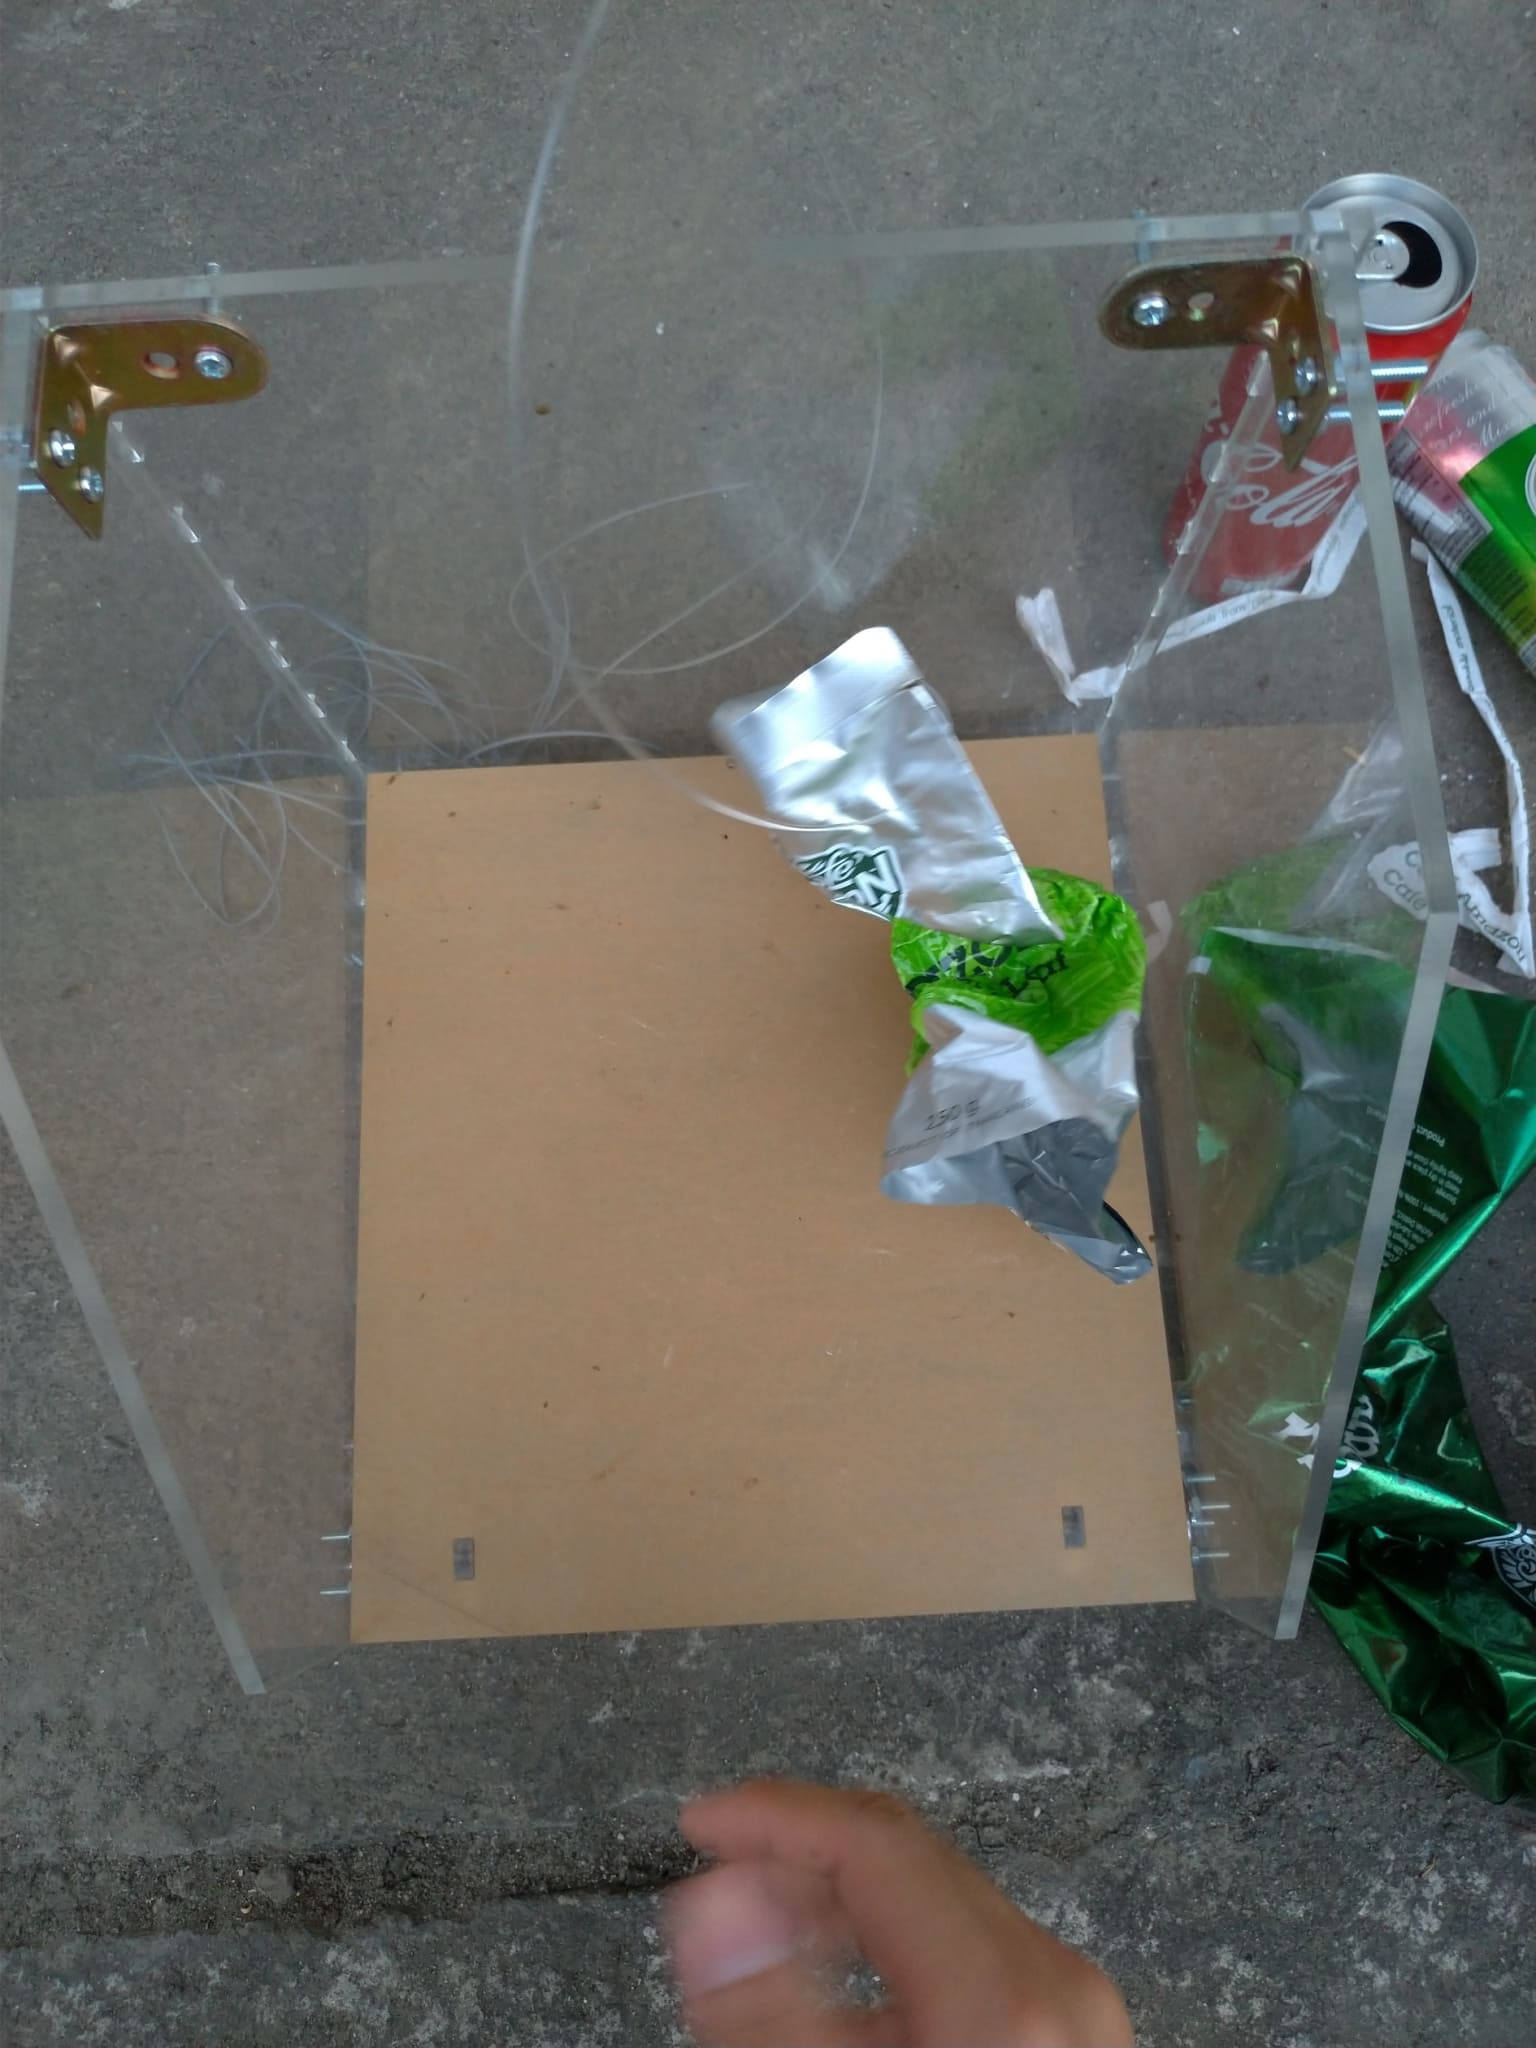AlCan: (1158, 177, 1480, 606), (1383, 326, 1536, 664)
Others: (1176, 900, 1536, 1814), (708, 629, 1154, 1284), (1042, 481, 1367, 700), (1379, 548, 1536, 959)
